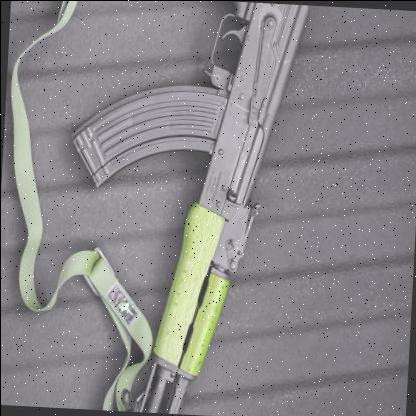rifle: (61, 0, 330, 416)
